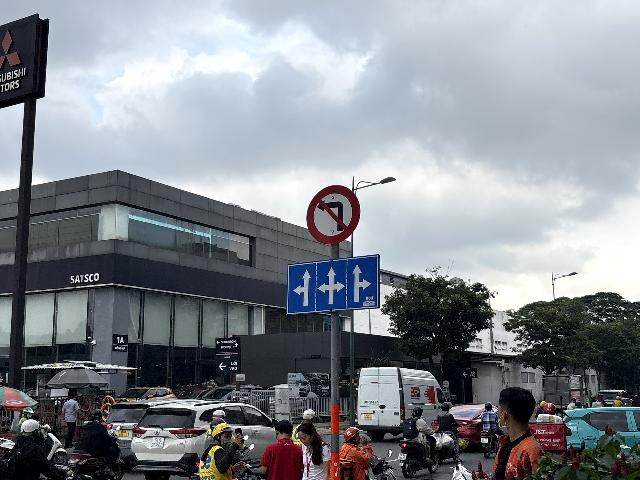cam-re-trai: (306, 184, 361, 246)
